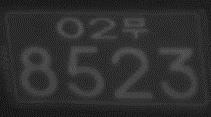0: (55, 14, 84, 39)
2: (111, 45, 153, 101), (89, 16, 117, 40)
3: (157, 46, 198, 100)
5: (66, 45, 105, 100)
8: (18, 44, 57, 98)
무: (121, 16, 149, 39)
